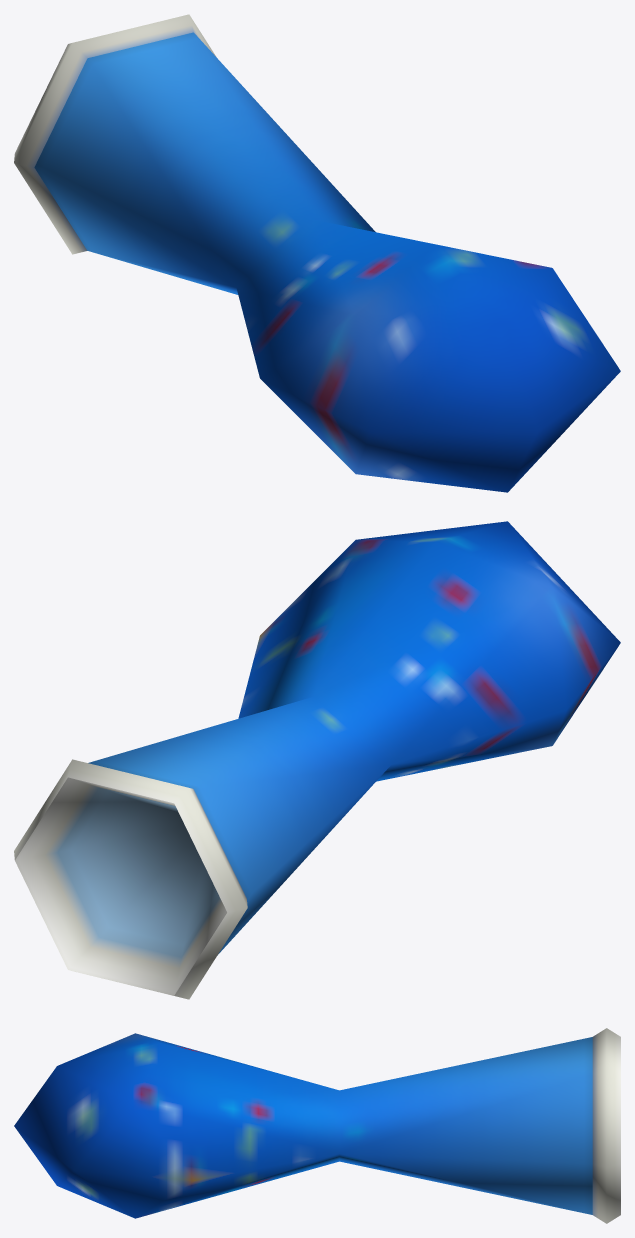
File: jsf_Balloon_10.fbx
The picture shows the model from 3 angles, top to bottom: view 1: azimuth 30°, elevation 25°; view 2: azimuth 150°, elevation 25°; view 3: azimuth 270°, elevation 25°; orthographic projection. The views are drawn at different scales.
Parts seen in each view (by area): view 1: jsf_Balloon_10; view 2: jsf_Balloon_10; view 3: jsf_Balloon_10.
Boxes of the visible parts, left/top/right/bottom form: jsf_Balloon_10: left=14, top=14, right=620, bottom=492; jsf_Balloon_10: left=14, top=521, right=620, bottom=999; jsf_Balloon_10: left=14, top=1028, right=620, bottom=1223.
Bounding box in the file's own units: 1.44 × 1.02 × 3.39.
